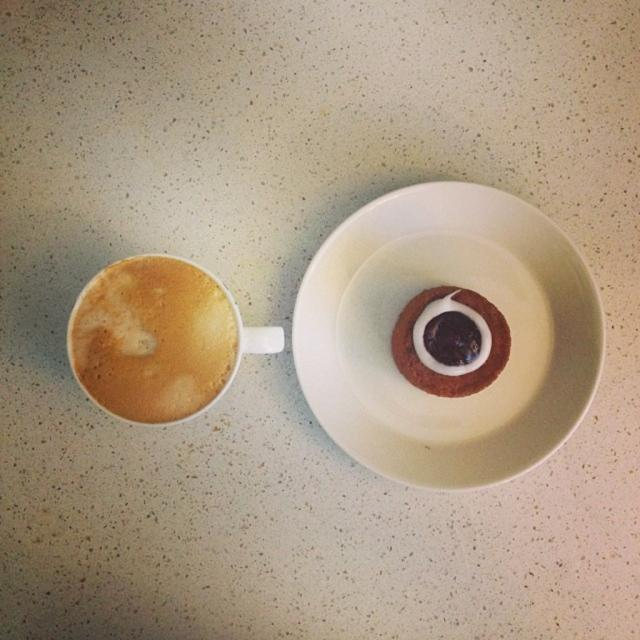Coffee: (54, 261, 274, 443)
